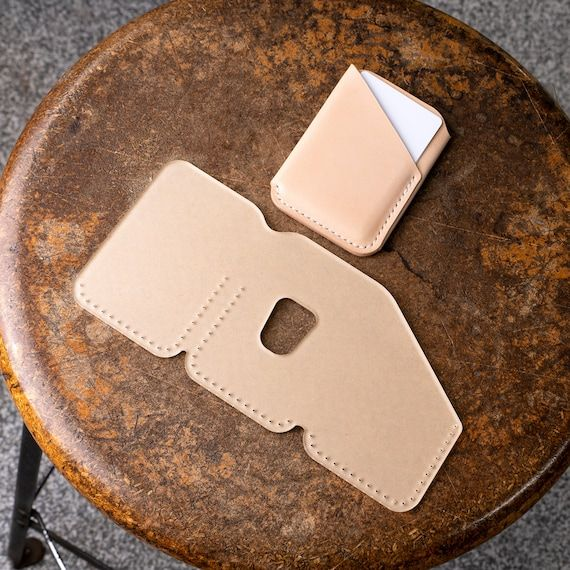cuero: (72, 64, 463, 514)
